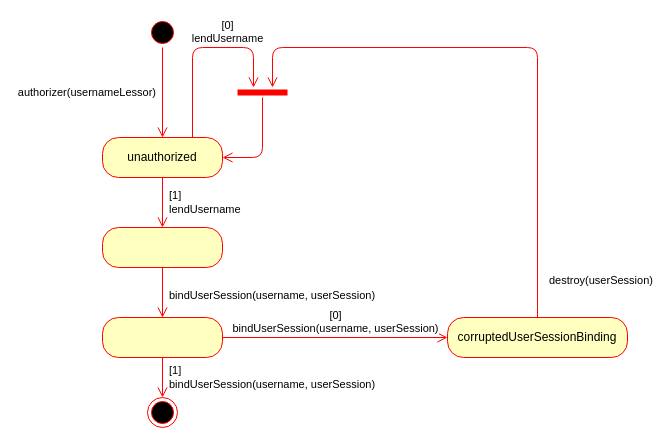
Some shapes in this 670 by 445 pixel diagram are drawn without their labels. Here are the shapes that lost their labels. From the top down, the centre of each, then its label:
At [162,247]: "castingUserSession".
At [162,337]: "bindingUserSession".
